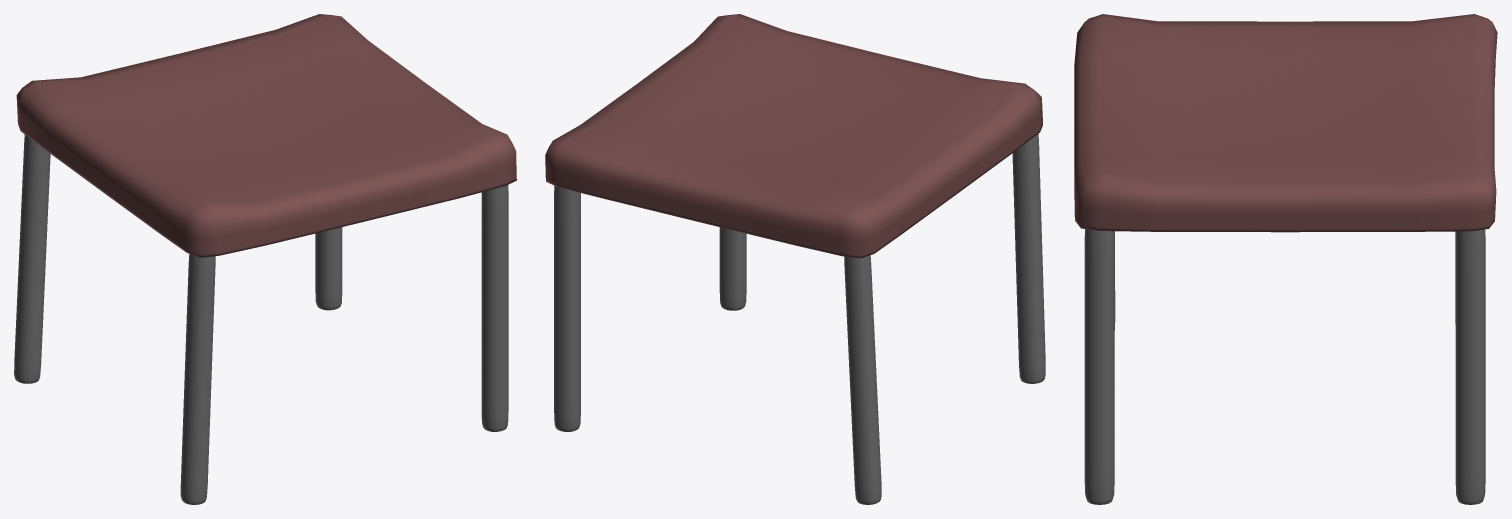
File: Stool_01.fbx
3 views of the same model, side by side, from view 1: azimuth 30°, elevation 25°; view 2: azimuth 150°, elevation 25°; view 3: azimuth 270°, elevation 25° (orthographic). The views are drawn at different scales.
Parts seen in each view (by area): view 1: Cube, Cube.001, Cube.002, Cube.004, Cube.003; view 2: Cube, Cube.004, Cube.001, Cube.003, Cube.002; view 3: Cube, Cube.002, Cube.003.
Part boxes in pixels (x1,y1,x2,y2): Cube: [16, 14, 516, 257]; Cube.001: [180, 254, 215, 504]; Cube.002: [481, 185, 508, 431]; Cube.004: [14, 134, 50, 383]; Cube.003: [315, 227, 342, 310]; Cube: [545, 14, 1042, 258]; Cube.004: [844, 255, 881, 504]; Cube.001: [1012, 134, 1045, 383]; Cube.003: [554, 186, 580, 431]; Cube.002: [719, 227, 746, 310]; Cube: [1074, 14, 1497, 232]; Cube.002: [1084, 229, 1114, 504]; Cube.003: [1455, 229, 1485, 504].
Size of the model in its own units: 203 by 172 by 201.
